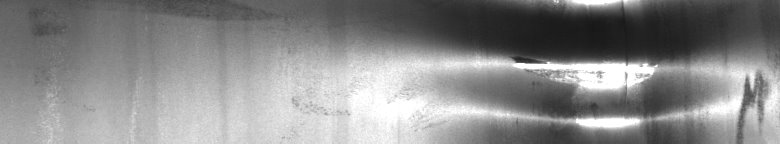ke: (484, 4, 763, 136)
